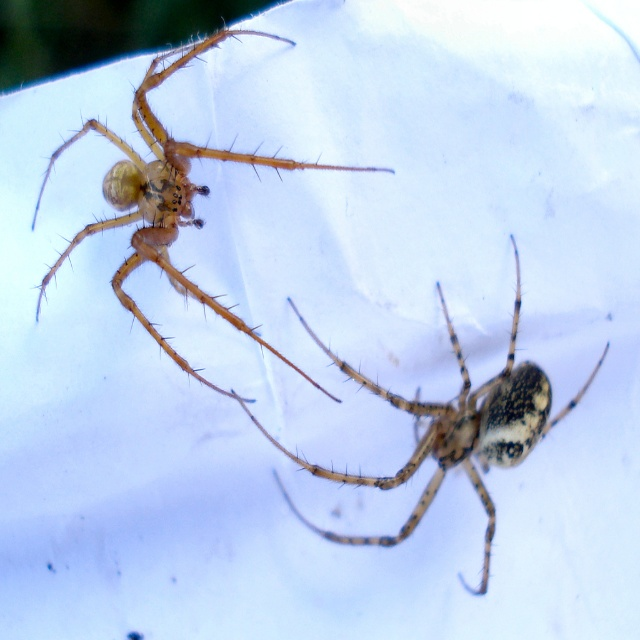Spider: (31, 26, 614, 598)
